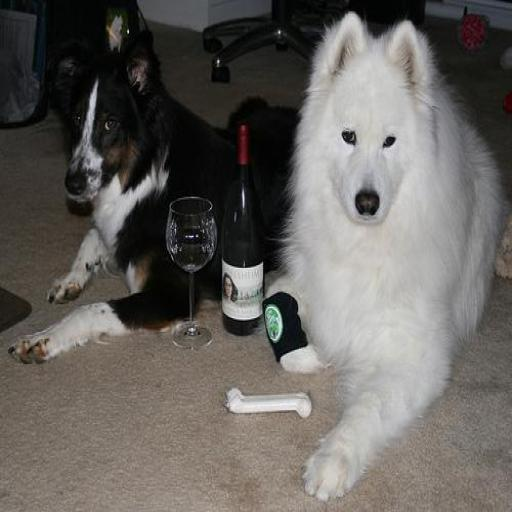dog_face: (325, 22, 428, 228), (51, 54, 155, 200)
